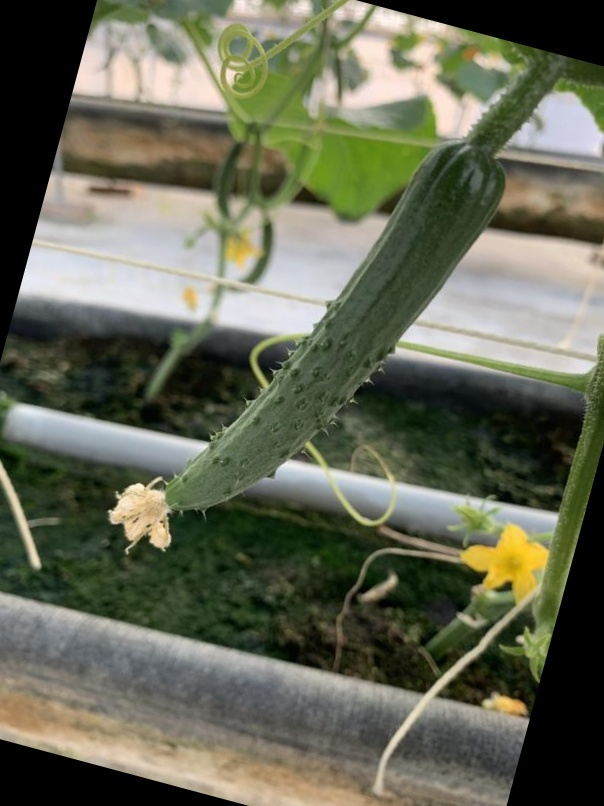growth: (124, 134, 518, 527)
